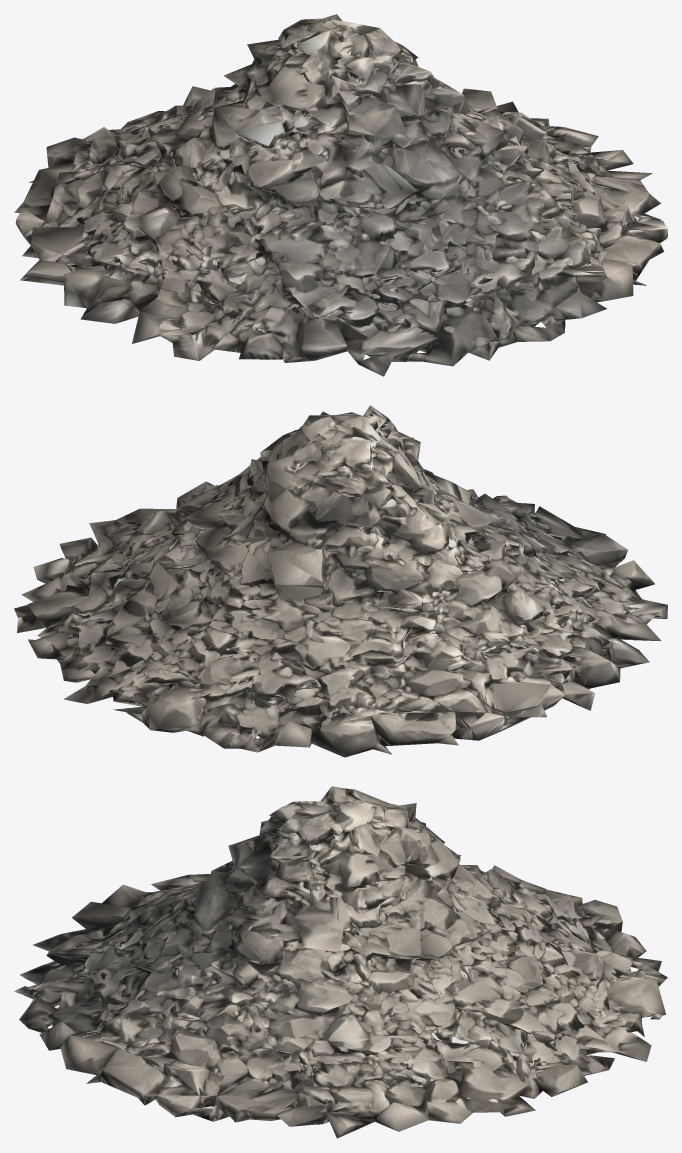
Rendered from scree_a_lod1.glb.
The picture shows the model from 3 angles, top to bottom: view 1: azimuth 30°, elevation 25°; view 2: azimuth 150°, elevation 25°; view 3: azimuth 270°, elevation 25°; orthographic projection. The views are drawn at different scales.
Parts seen in each view (by area): view 1: scree_a_lod1; view 2: scree_a_lod1; view 3: scree_a_lod1.
Boxes of the visible parts, x1,y1,x2,y2 form: scree_a_lod1: (14,14,667,376); scree_a_lod1: (14,405,667,757); scree_a_lod1: (14,786,667,1138).
Size of the model in its own units: 20.01 by 7.04 by 19.99.
Materials: 1 (1 with a texture image).
